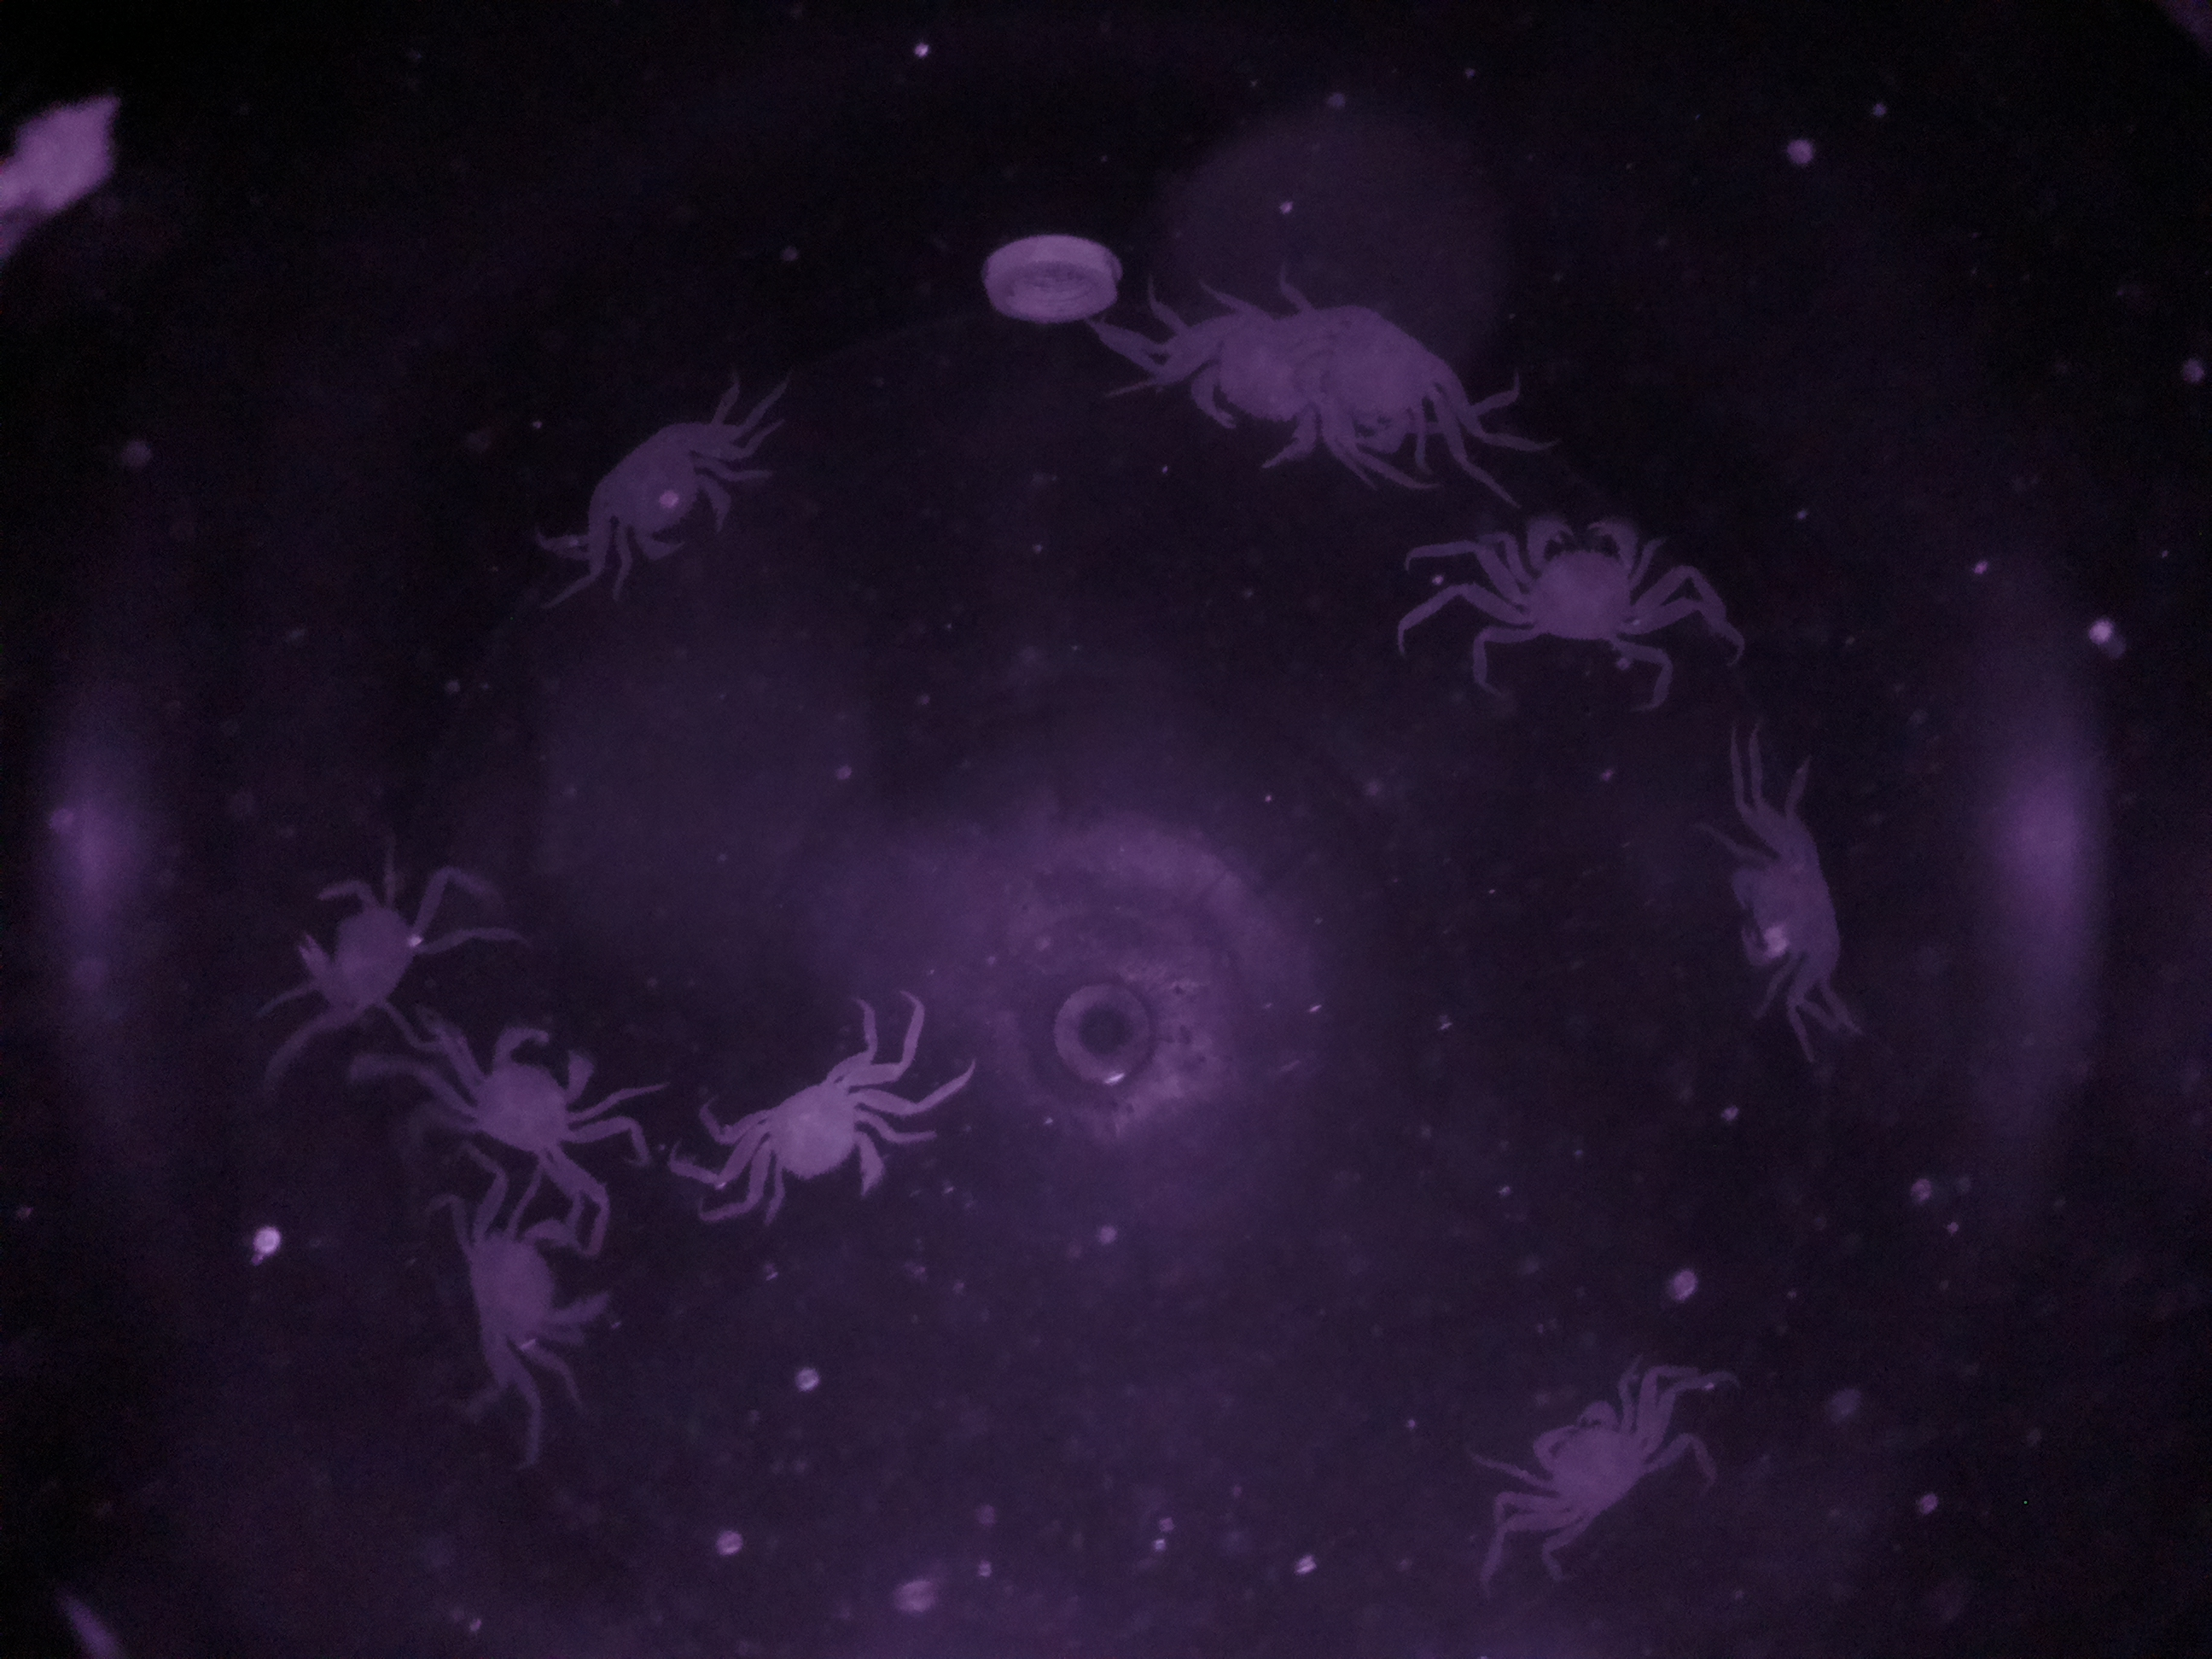Crab: (437, 1190, 618, 1394), (442, 1000, 632, 1192), (1721, 807, 1876, 1014), (1484, 498, 1672, 666), (716, 1047, 892, 1218), (589, 415, 765, 586), (1498, 1373, 1651, 1549)
